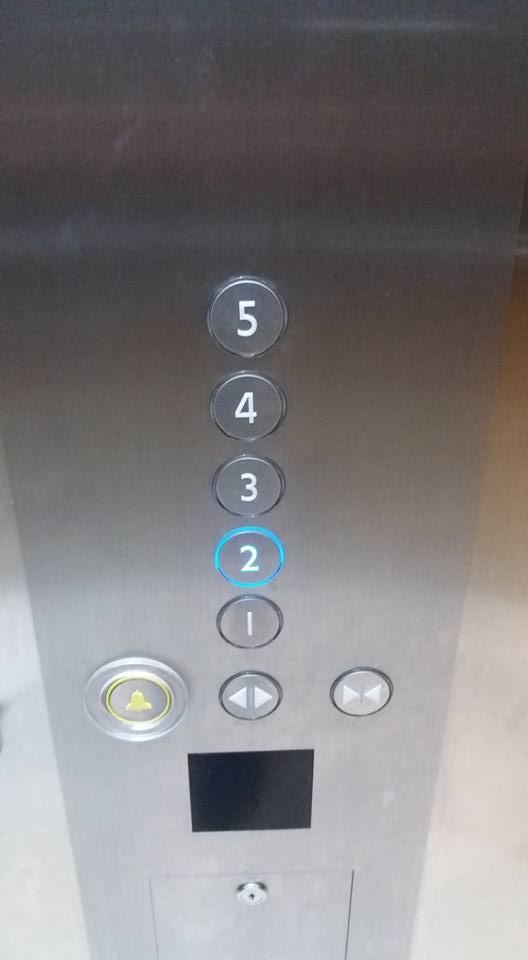1: (215, 593, 284, 648)
2: (214, 524, 285, 588)
3: (215, 452, 287, 517)
4: (210, 371, 287, 444)
5: (207, 276, 286, 358)
alarm: (82, 658, 189, 741)
close: (326, 664, 397, 718)
empty: (188, 748, 318, 833)
keyhole: (235, 879, 270, 907)
open: (216, 664, 284, 722)
